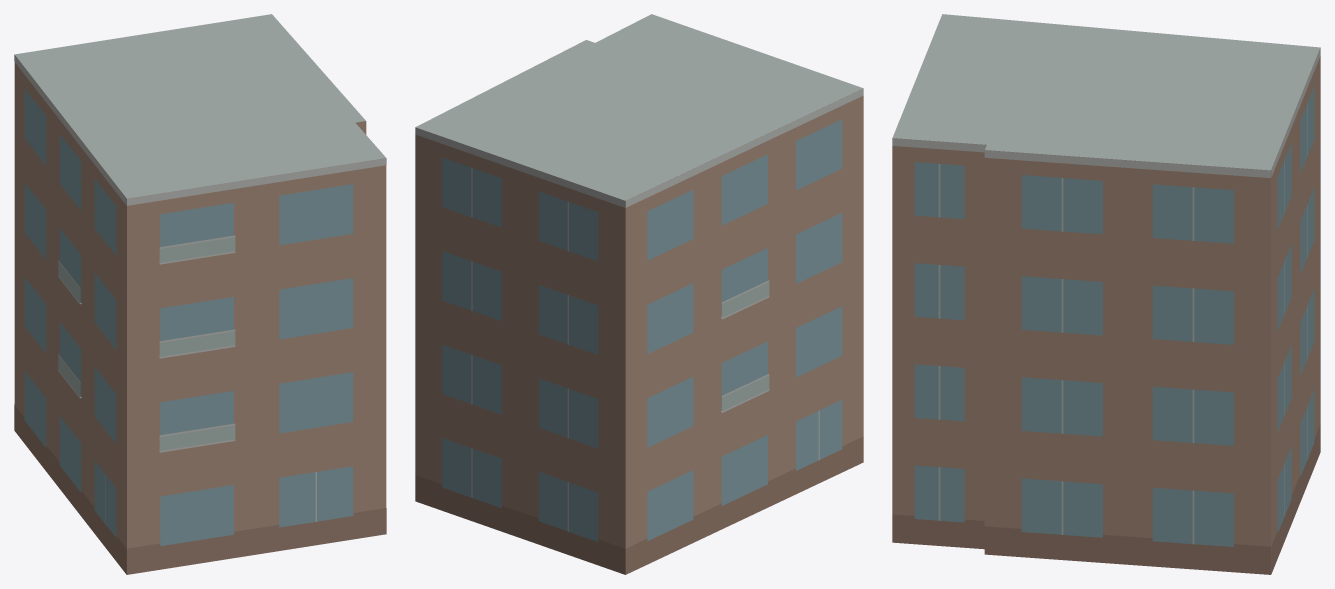
The model's file is survey-upis-32712831.glb.
The picture shows the model from 3 angles, left to right: view 1: azimuth 30°, elevation 25°; view 2: azimuth 150°, elevation 25°; view 3: azimuth 270°, elevation 25°; orthographic projection. The views are drawn at different scales.
Parts seen in each view (by area): view 1: survey-upis-32712831.tmp; view 2: survey-upis-32712831.tmp; view 3: survey-upis-32712831.tmp.
Part boxes in pixels (x1,y1,x2,y2): survey-upis-32712831.tmp: (14,14,386,574); survey-upis-32712831.tmp: (415,14,863,574); survey-upis-32712831.tmp: (892,14,1320,574).
Size of the model in its own units: 10.54 by 12.7 by 12.2.
